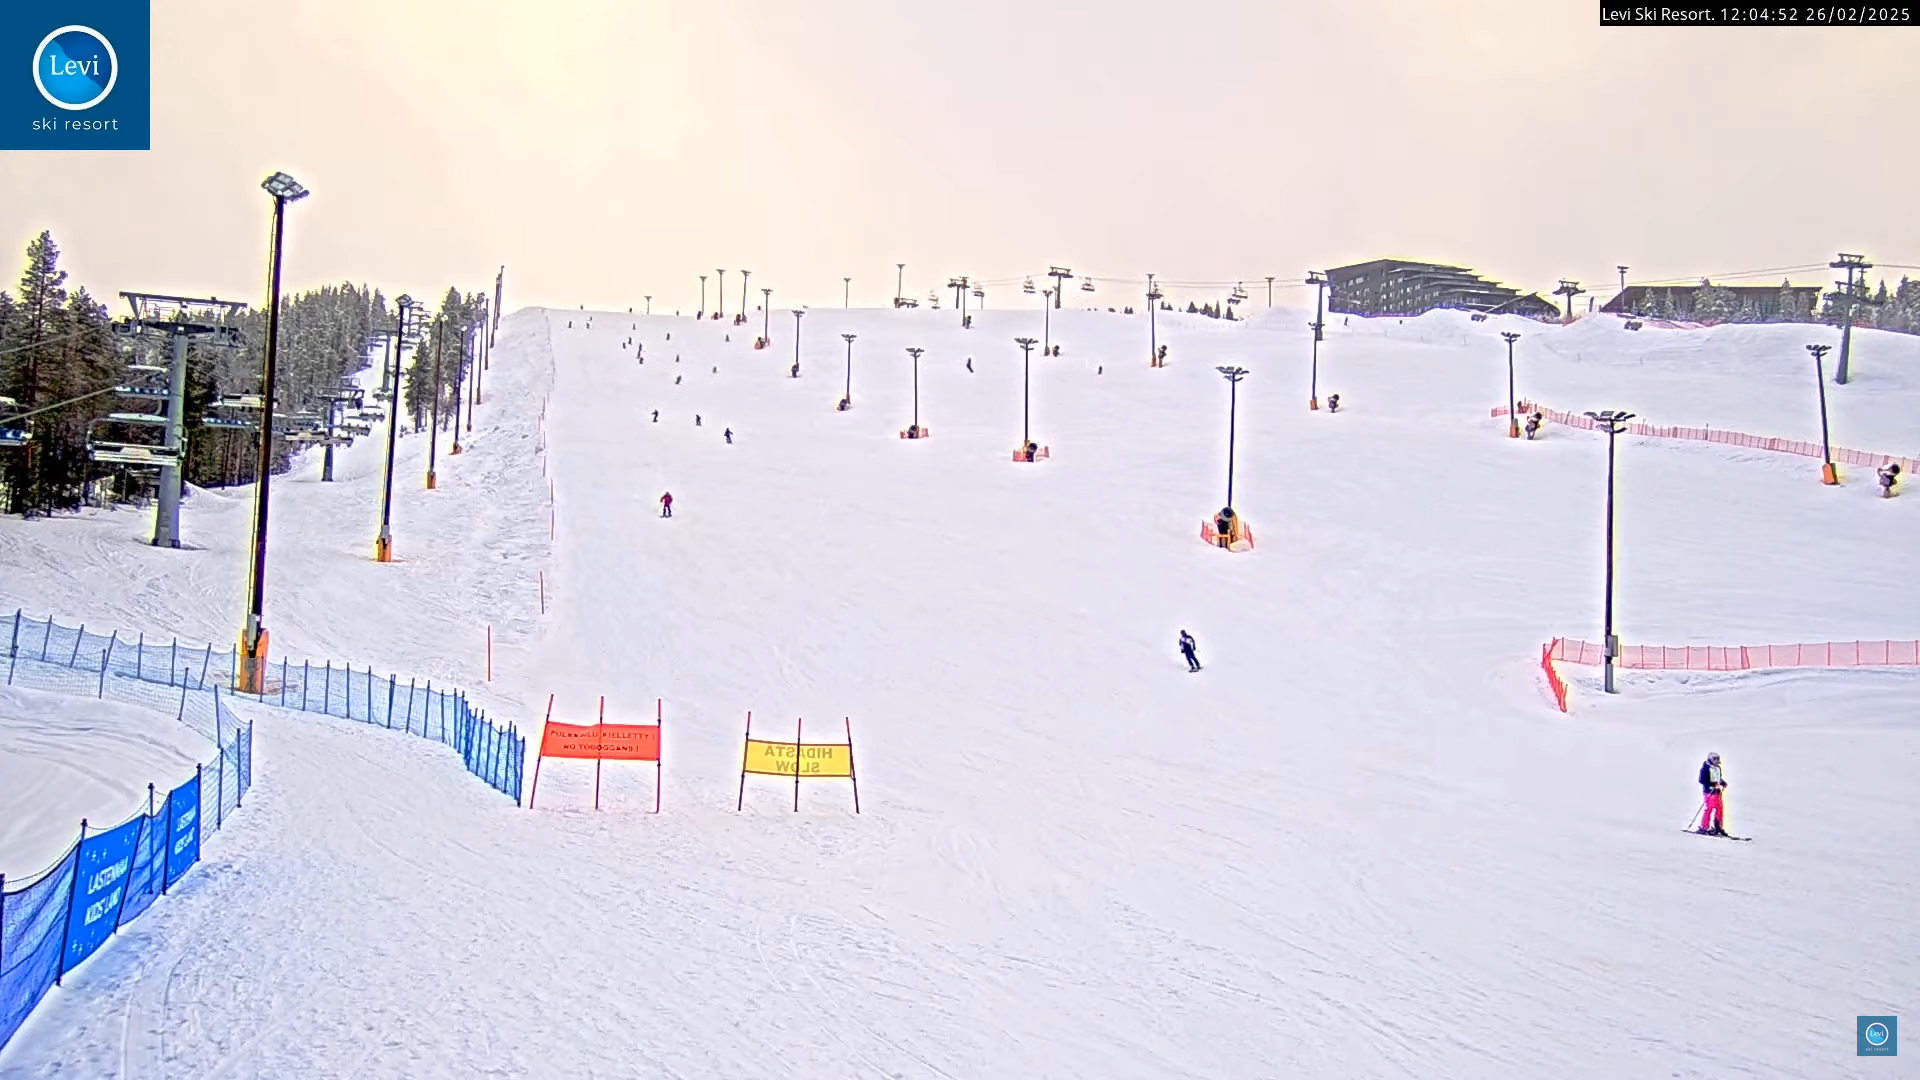skier: (1680, 752, 1754, 848)
